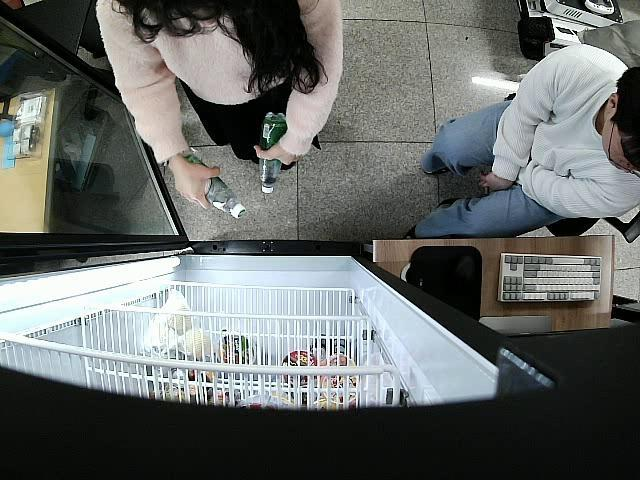18_trevi: (184, 152, 248, 218), (262, 111, 288, 195)
